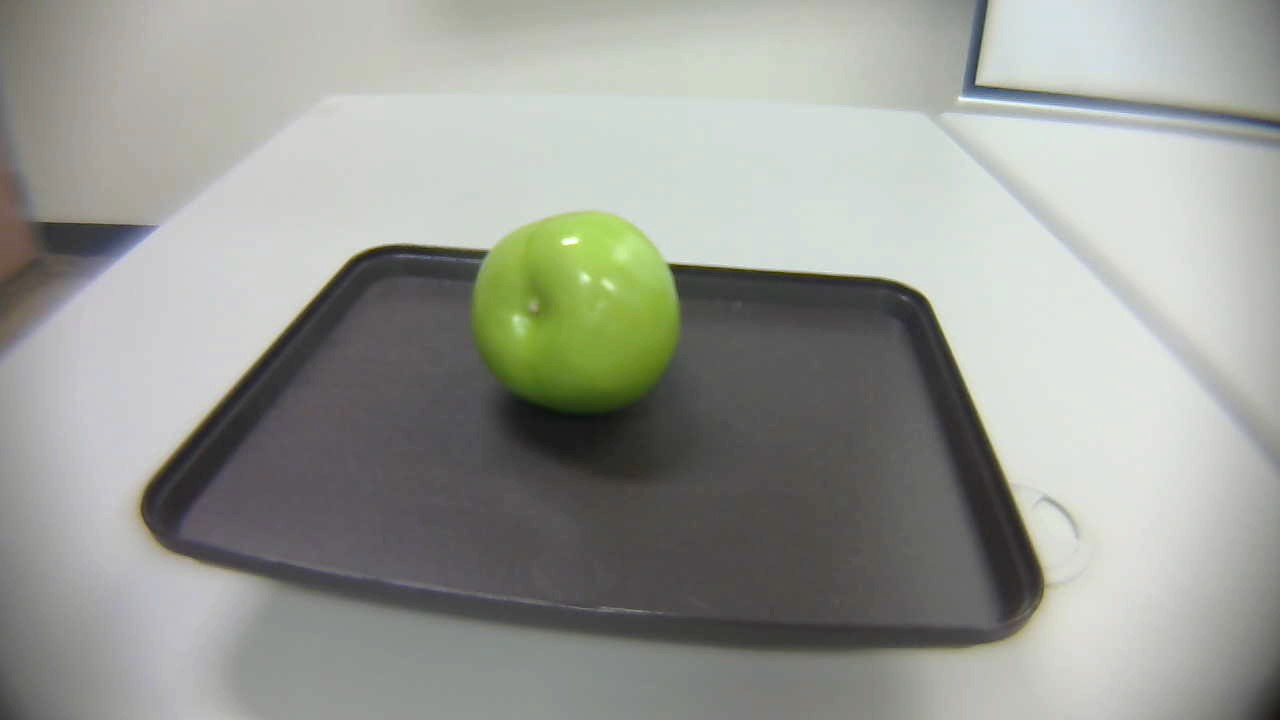green pear: (454, 205, 701, 424)
